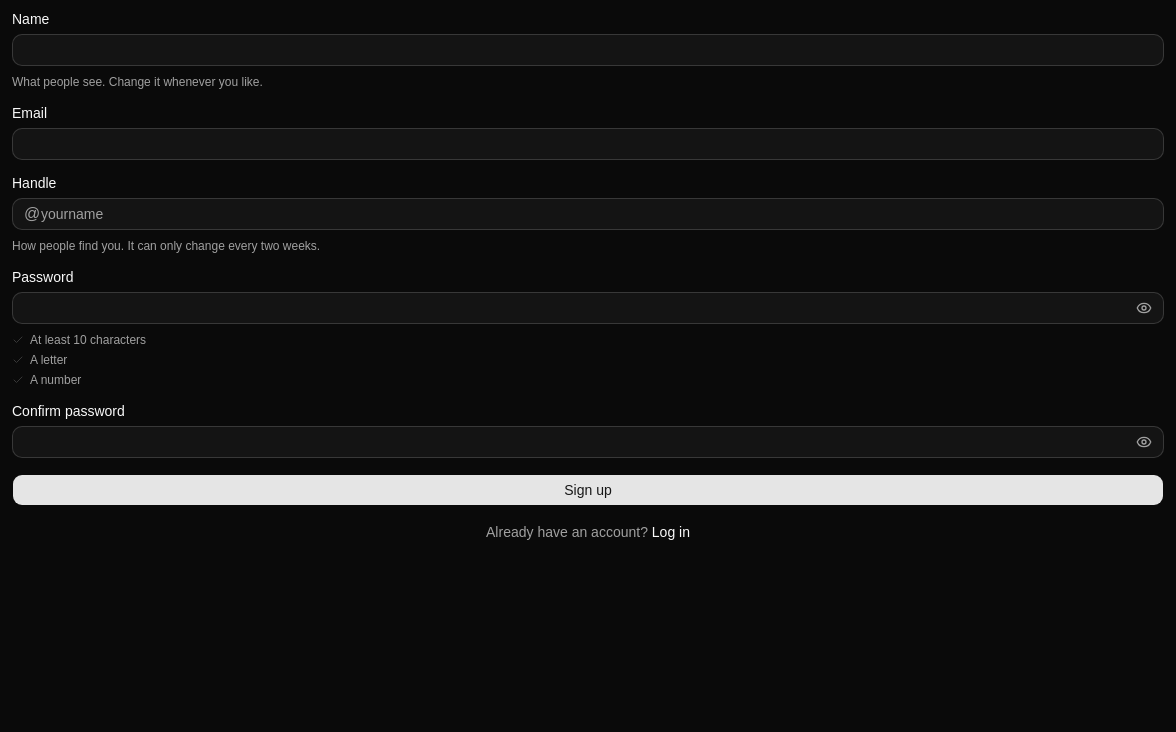
AuthForm, signing up › will not submit a weak password, or two that differ
This screenshot has width=1176, height=732.
Type "Ada" into the field labelled "Name" at [588, 50], box left=12, top=34, right=1164, bottom=66
Type "ada@example.com" into the field labelled "Email" at [588, 144], box left=12, top=128, right=1164, bottom=160
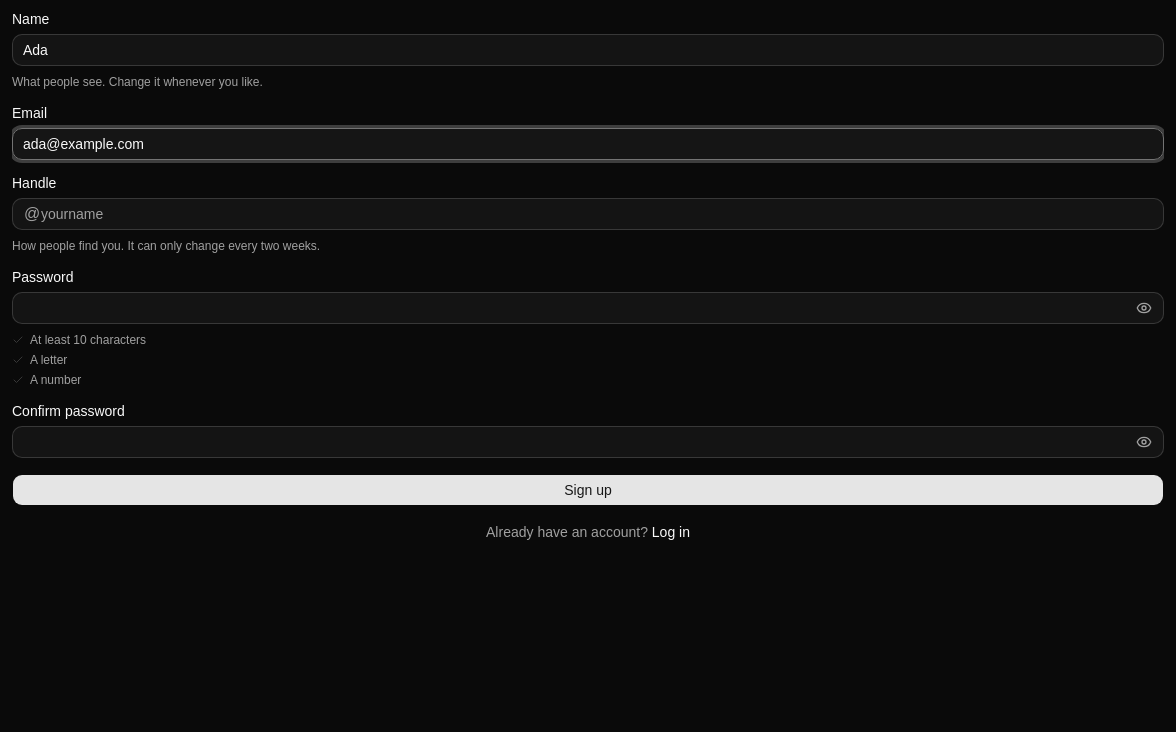
Type "short" into the password field labelled "Password" at [588, 308], box left=12, top=292, right=1164, bottom=324
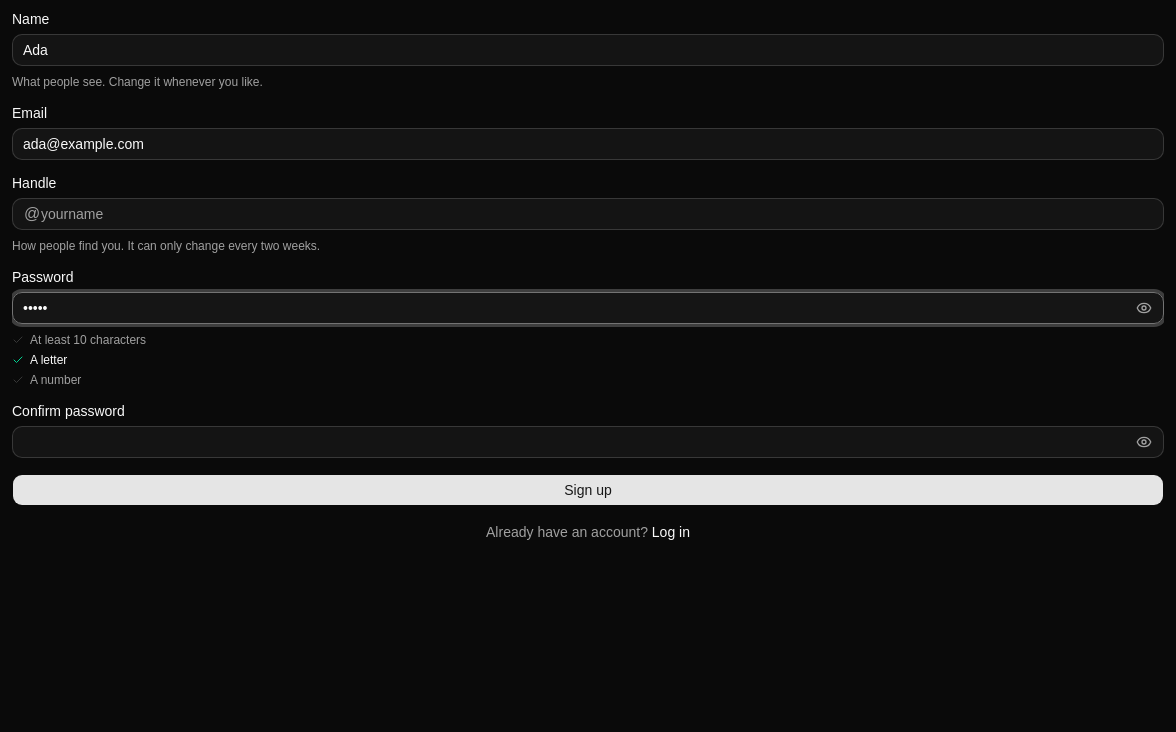
Type "short" into the password field labelled "Confirm password" at [588, 442], box left=12, top=426, right=1164, bottom=458
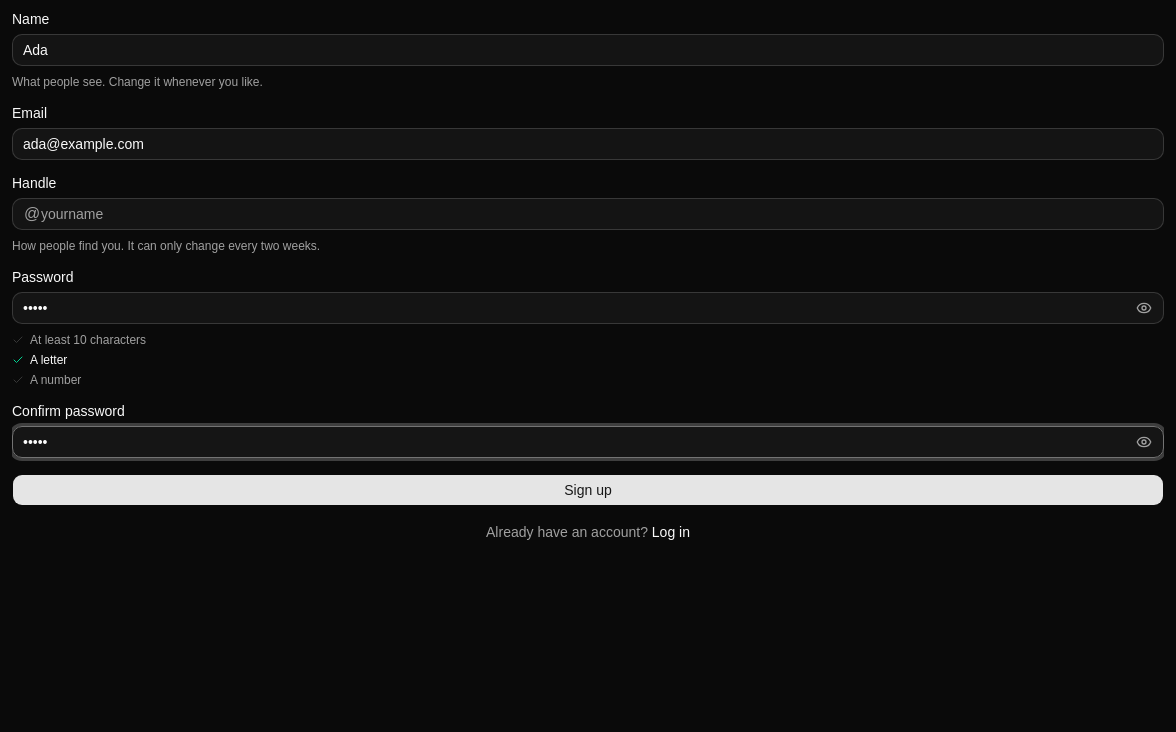
Click the button "Sign up" at [588, 490], box left=12, top=474, right=1164, bottom=506
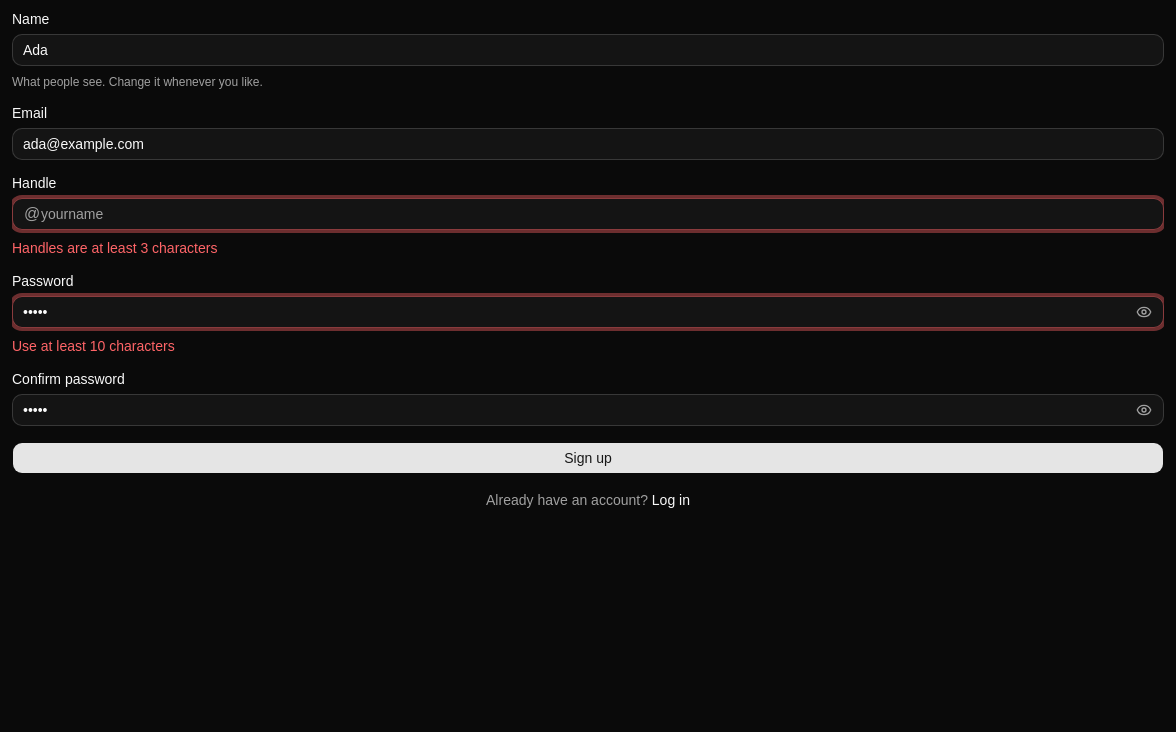
Now the text "Use at least 10 characters" is shown, box left=12, top=338, right=175, bottom=354
Type "lovelace-1815" into the password field labelled "Password" at [588, 312], box left=12, top=296, right=1164, bottom=328
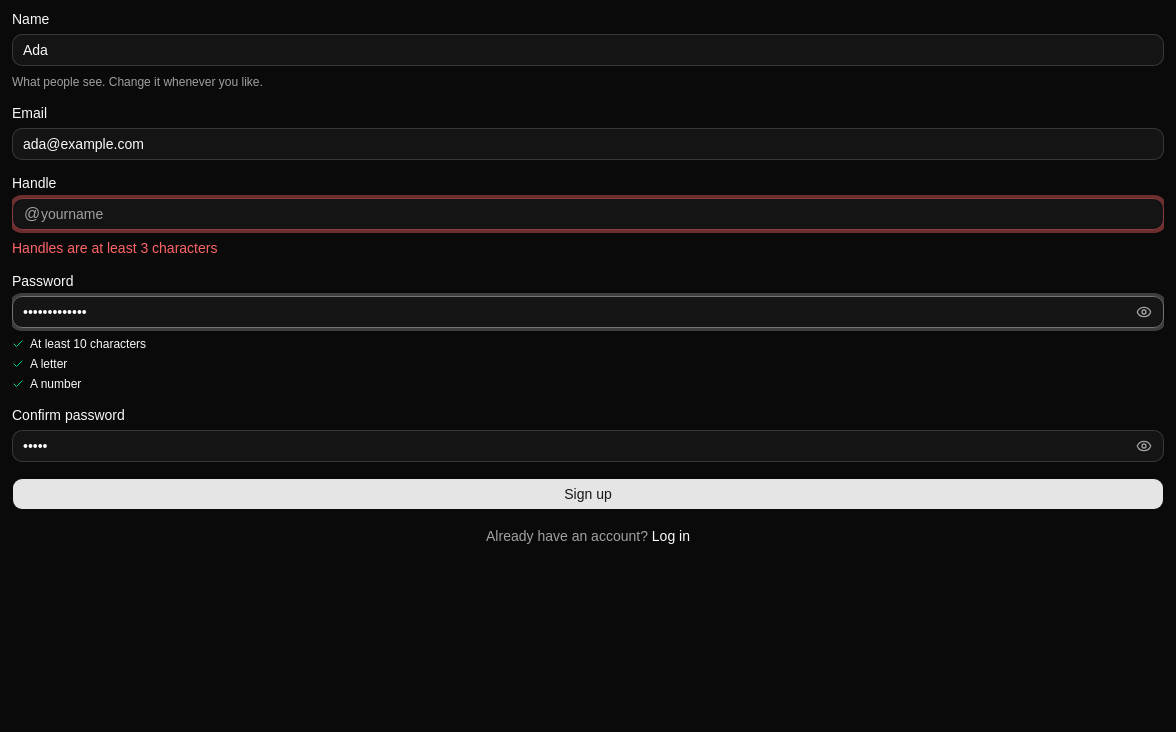
Click the button "Sign up" at [588, 494], box left=12, top=478, right=1164, bottom=510
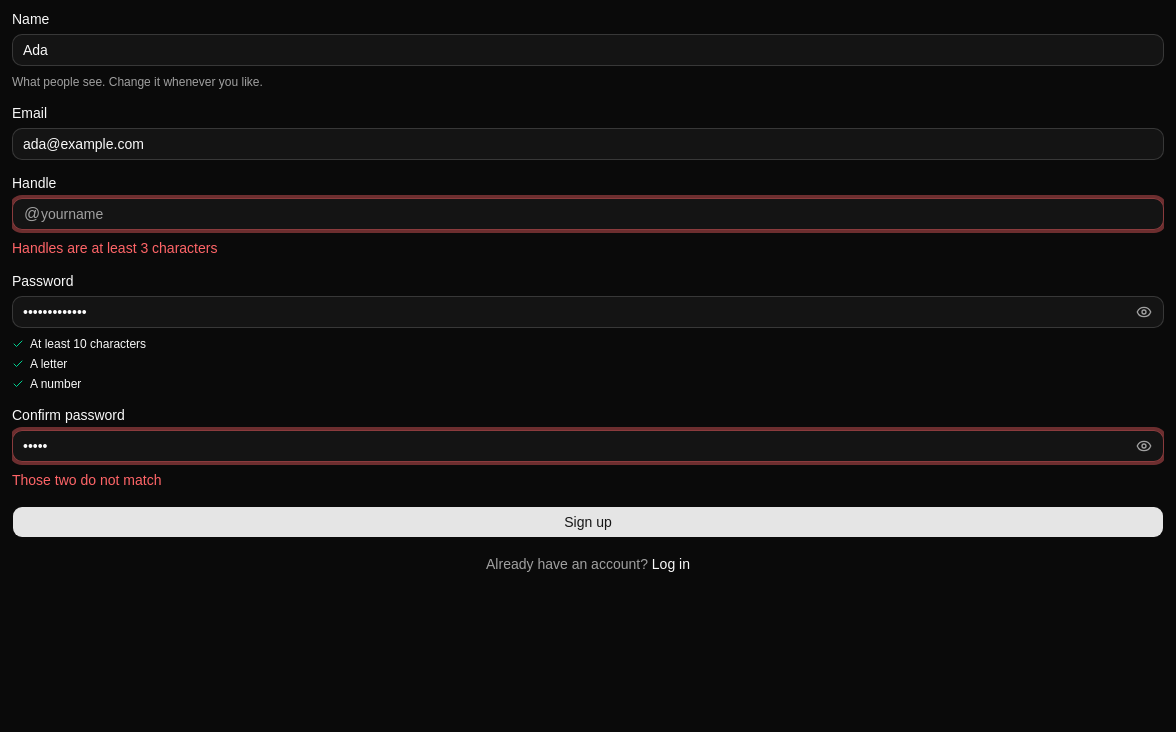
Now the text "Those two do not match" is shown, box left=12, top=472, right=161, bottom=488
